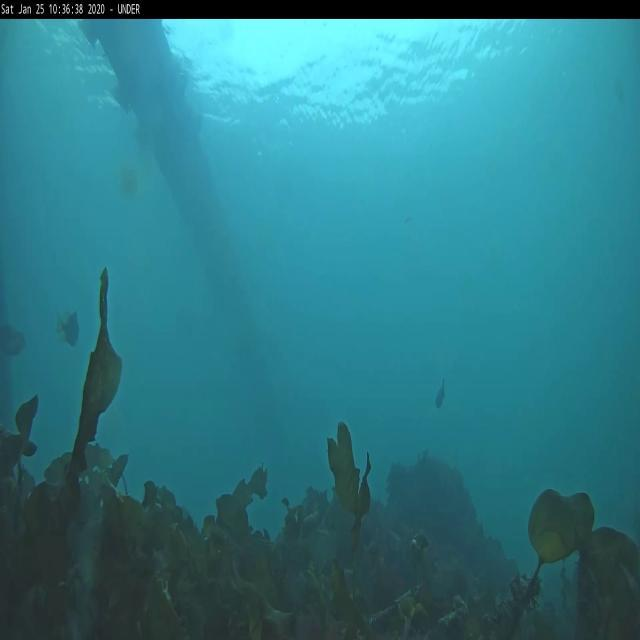fish: (0, 322, 27, 354), (56, 312, 82, 345), (434, 378, 448, 409)
